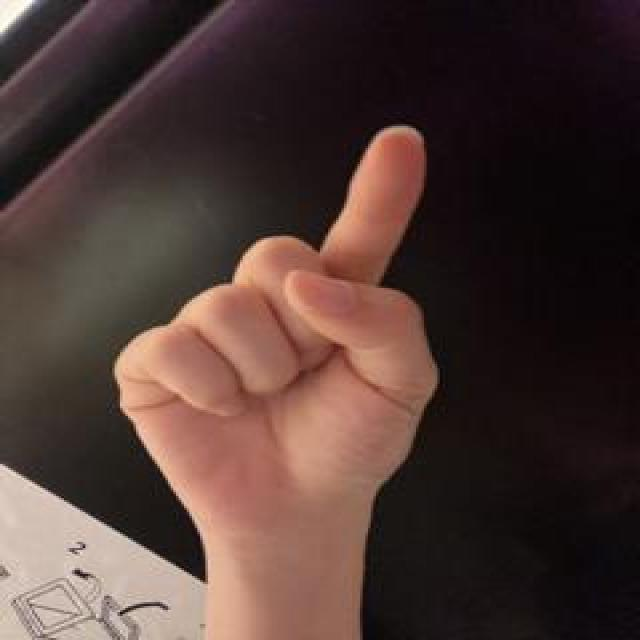Z: (100, 121, 444, 543)
